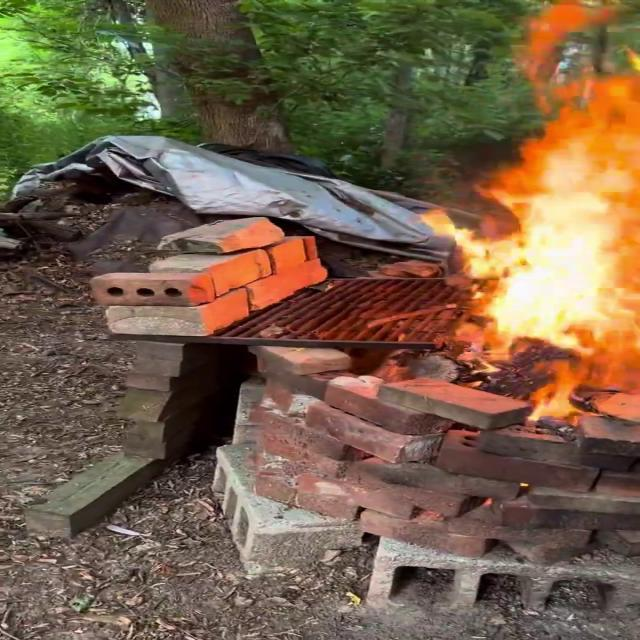Fire: (402, 0, 640, 421)
